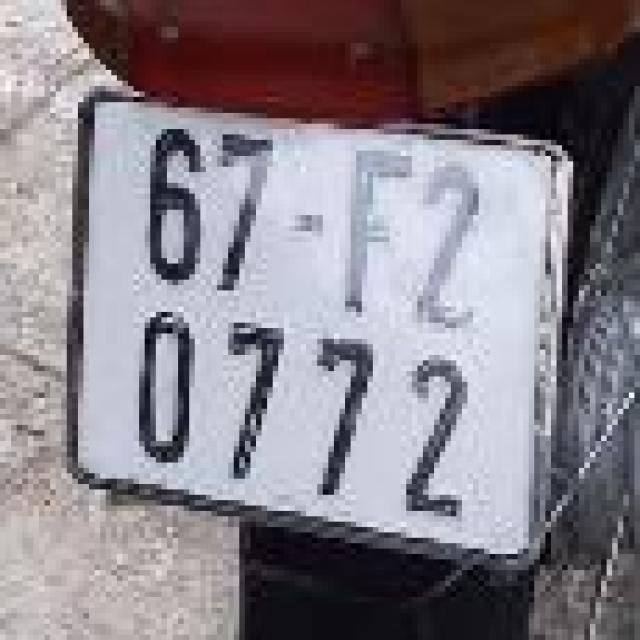0: (132, 304, 213, 477)
2: (401, 141, 509, 346), (397, 341, 485, 531)
6: (133, 117, 217, 296)
7: (292, 326, 387, 516), (209, 306, 300, 491), (201, 124, 291, 307)
F: (328, 136, 427, 326)
